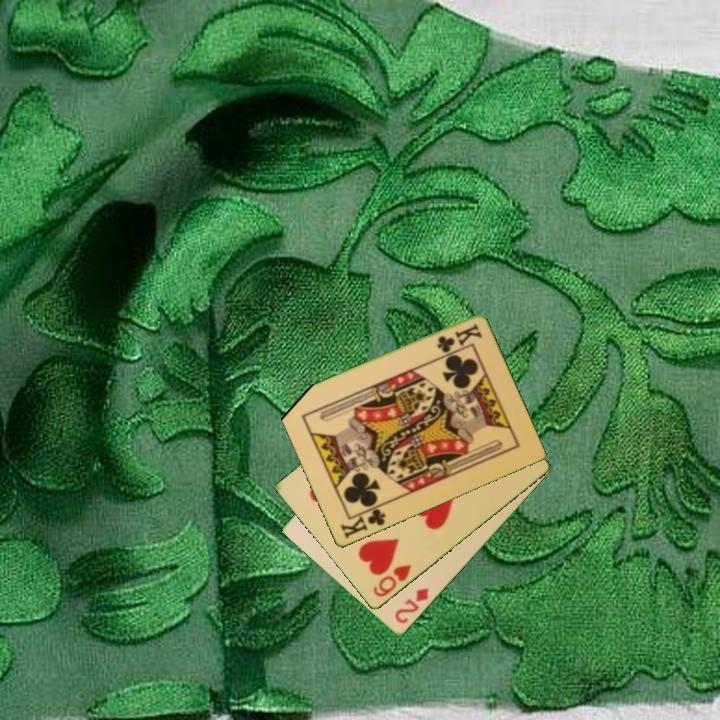2d: (391, 585, 432, 627)
6h: (369, 561, 415, 601)
Kc: (337, 502, 389, 542), (433, 320, 484, 356)
